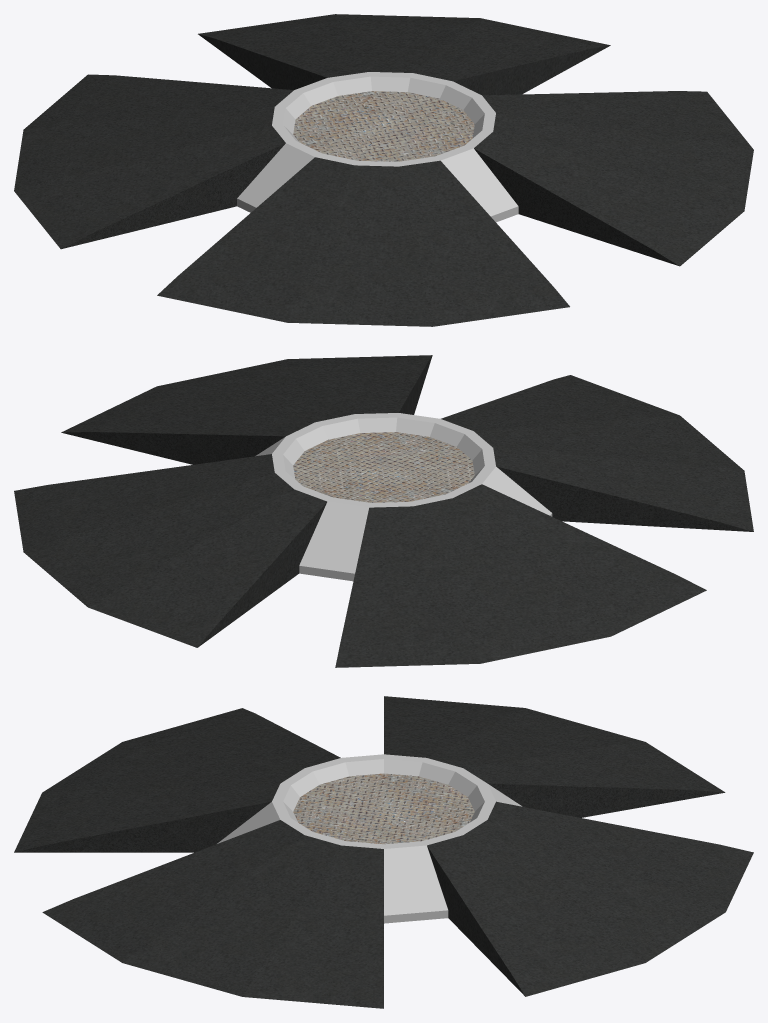
The model's file is Teleporter.fbx.
3 views of the same model, one above another, from view 1: azimuth 30°, elevation 25°; view 2: azimuth 150°, elevation 25°; view 3: azimuth 270°, elevation 25° (orthographic).
Parts seen in each view (by area): view 1: Teleporter; view 2: Teleporter; view 3: Teleporter.
Part boxes in pixels (box(x1,y1,x2,y2)): Teleporter: box(14, 14, 753, 326); Teleporter: box(14, 355, 753, 667); Teleporter: box(14, 696, 753, 1008).
Size of the model in its own units: 6.6 by 0.5 by 6.6.
